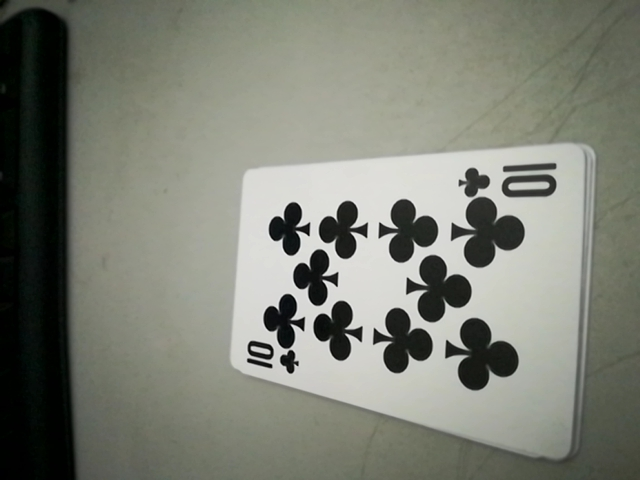mh 10: (457, 156, 571, 201), (240, 340, 304, 382)
